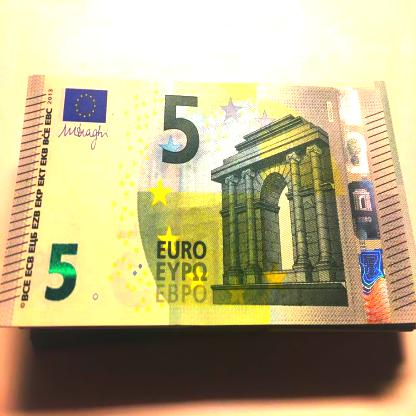euro_banknote: (1, 75, 416, 327)
